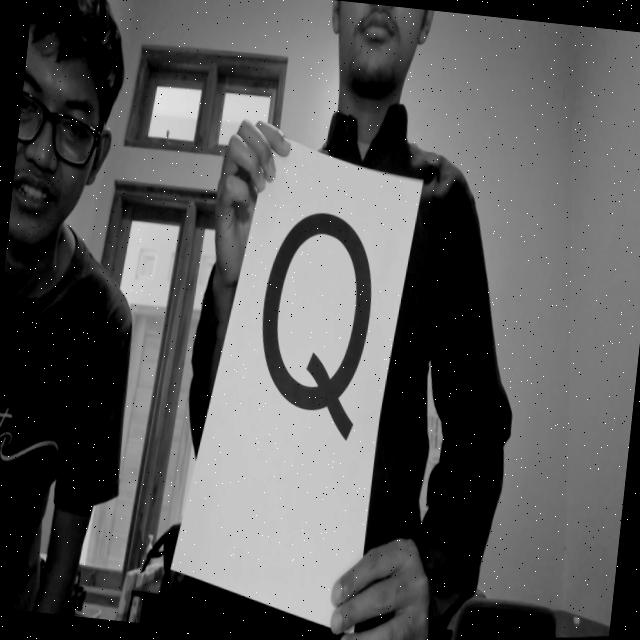q: (240, 180, 396, 470)
